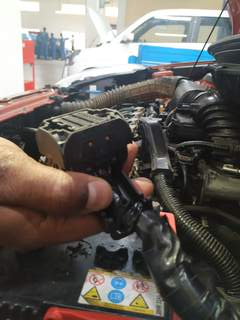connector: (36, 108, 133, 170)
